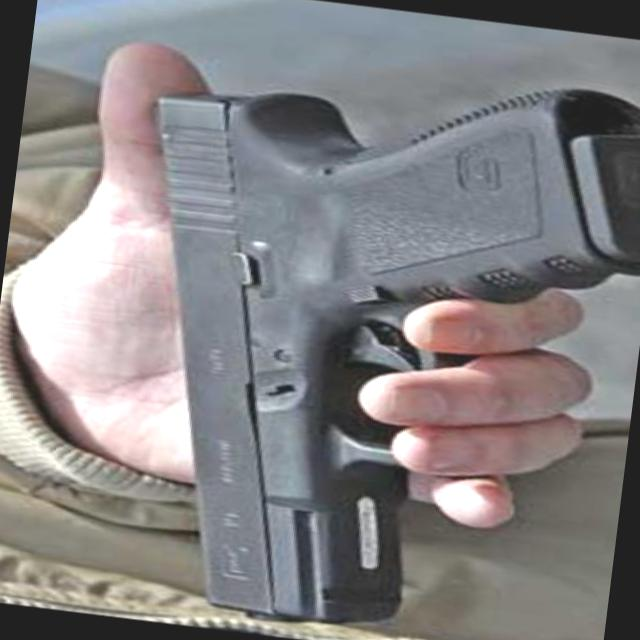handgun: (84, 41, 639, 639)
